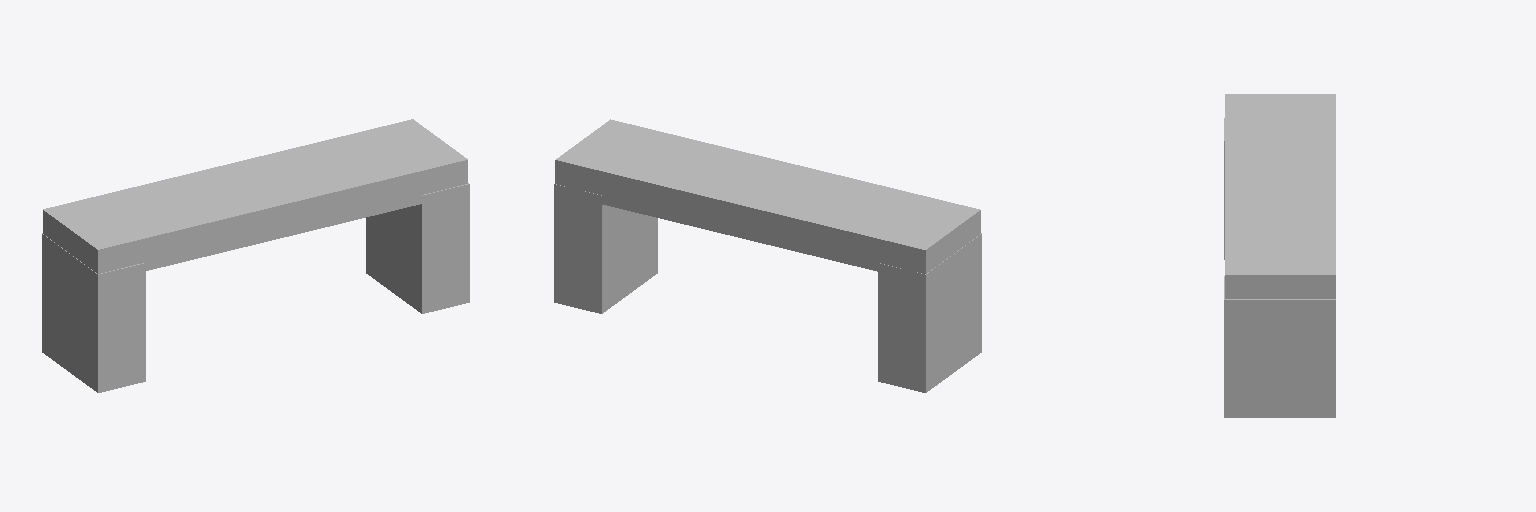
The model's file is violet_car.obj.
3 views of the same model, side by side, from view 1: azimuth 30°, elevation 25°; view 2: azimuth 150°, elevation 25°; view 3: azimuth 270°, elevation 25° (orthographic).
Parts seen in each view (by area): view 1: Cube Mesh; view 2: Cube Mesh; view 3: Cube Mesh.
Part boxes in pixels (x1,y1,x2,y2): Cube Mesh: (42, 119, 469, 392); Cube Mesh: (554, 119, 981, 392); Cube Mesh: (1224, 94, 1335, 417).
Size of the model in its own units: 45.46 by 16.68 by 11.89.